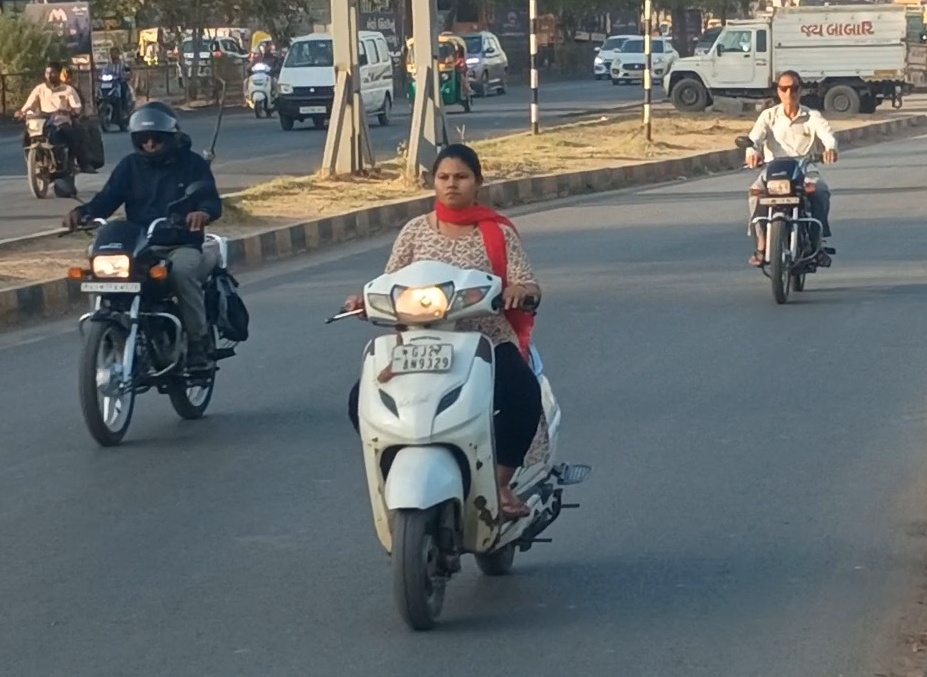BikeWithRider: (317, 137, 598, 637), (54, 95, 257, 453), (729, 64, 848, 309), (11, 57, 102, 204), (240, 34, 286, 122), (99, 46, 135, 134)
Helmet: (120, 95, 188, 167)
NoHelmet: (422, 138, 490, 218), (766, 65, 810, 113), (37, 59, 67, 90), (110, 45, 120, 60)
